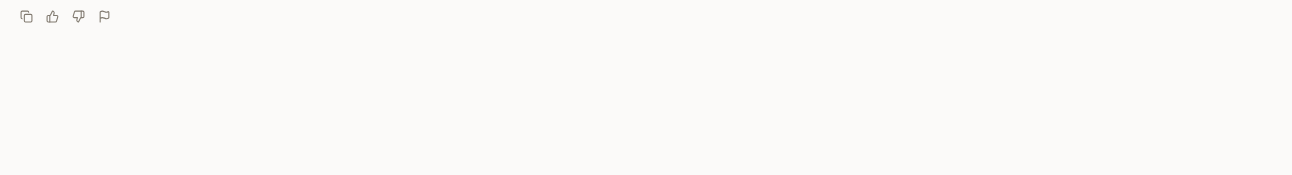
Test: HunterMessageFeedback → PostHog › Flag fires rated:flagged and opens the comment box
Click the button named "Flag as inaccurate".
click(104, 16)  # box [92,4,116,28]
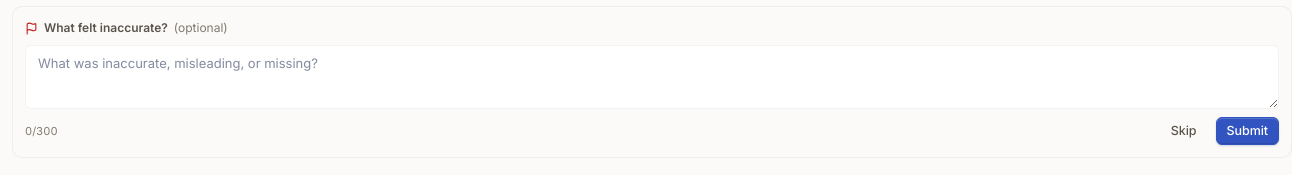
Check: the text box named "Feedback comment" is shown, box [25,45,1279,109]
